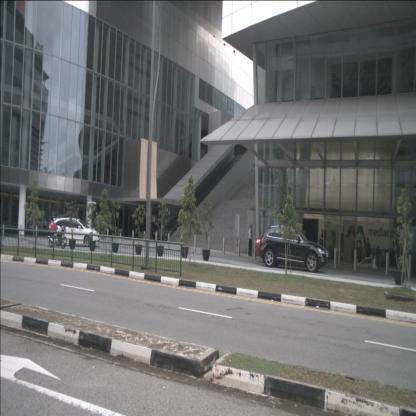human-pedestrian-adult: (248, 224, 253, 257), (361, 238, 366, 264), (351, 240, 356, 266), (375, 246, 381, 264), (366, 238, 370, 262)
vehicle-car: (255, 224, 329, 272), (48, 217, 101, 248)
vehicle-motorcycle: (48, 218, 67, 249)
